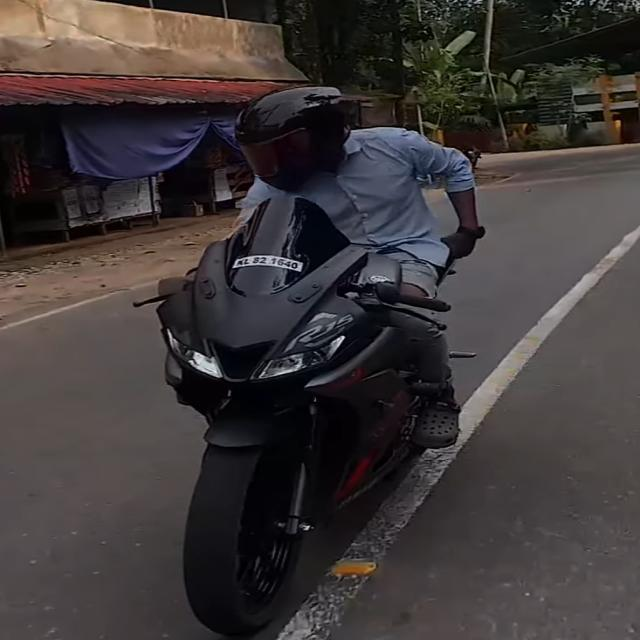Numberplate: (228, 257, 308, 269)
bike: (98, 122, 563, 640)
helmet: (220, 84, 402, 190)
